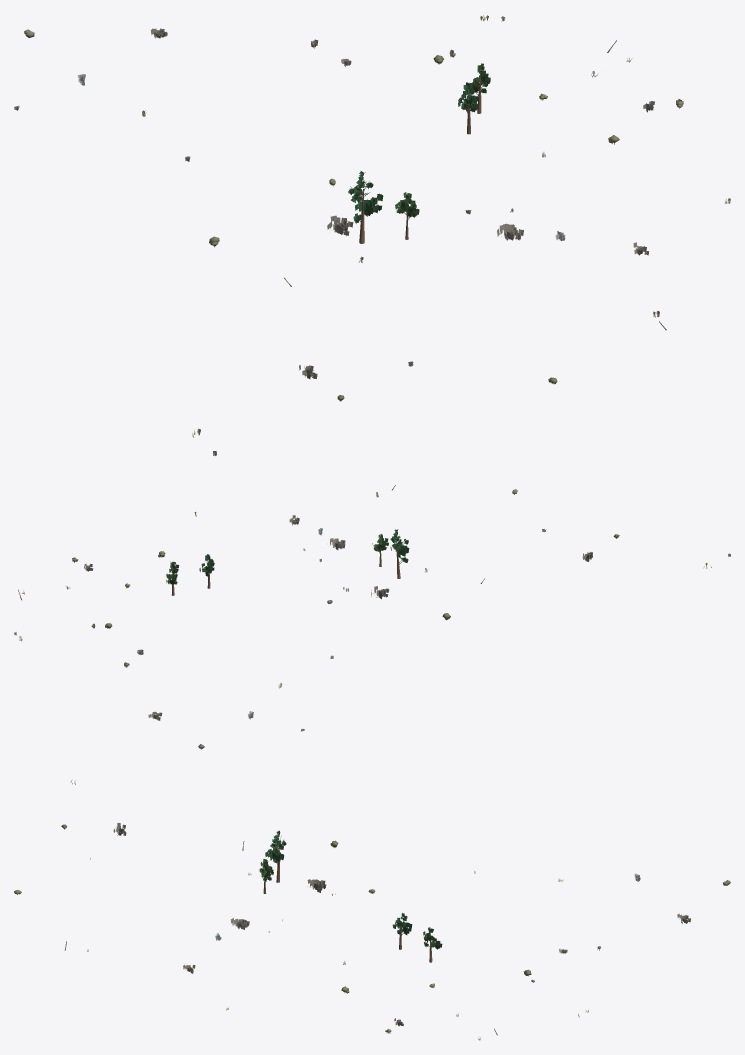
The model's file is coast_land_scatter_c12_16.glb.
The picture shows the model from 3 angles, top to bottom: view 1: azimuth 30°, elevation 25°; view 2: azimuth 150°, elevation 25°; view 3: azimuth 270°, elevation 25°; orthographic projection. The views are drawn at different scales.
Visible parts, largest first — view 1: coast_land_scatter_c12_16; view 2: coast_land_scatter_c12_16; view 3: coast_land_scatter_c12_16.
Part boxes in pixels (x1,y1,x2,y2): coast_land_scatter_c12_16: [14, 15, 730, 455]; coast_land_scatter_c12_16: [14, 485, 730, 749]; coast_land_scatter_c12_16: [14, 779, 730, 1040].
Size of the model in its own units: 115 by 13.94 by 137.
